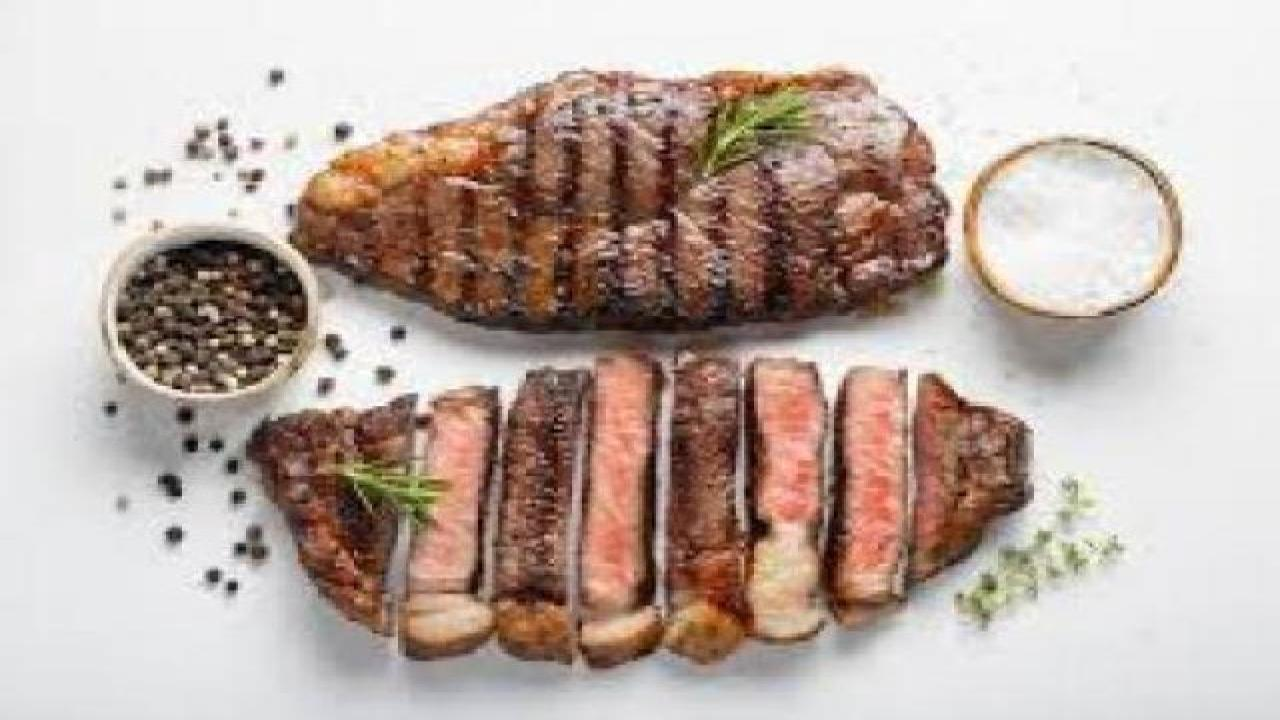Carne: (272, 49, 951, 325), (249, 368, 434, 639), (479, 349, 608, 671), (836, 332, 929, 644), (923, 369, 1043, 610), (660, 338, 743, 675), (573, 338, 654, 668), (735, 347, 823, 648), (413, 375, 500, 666)
